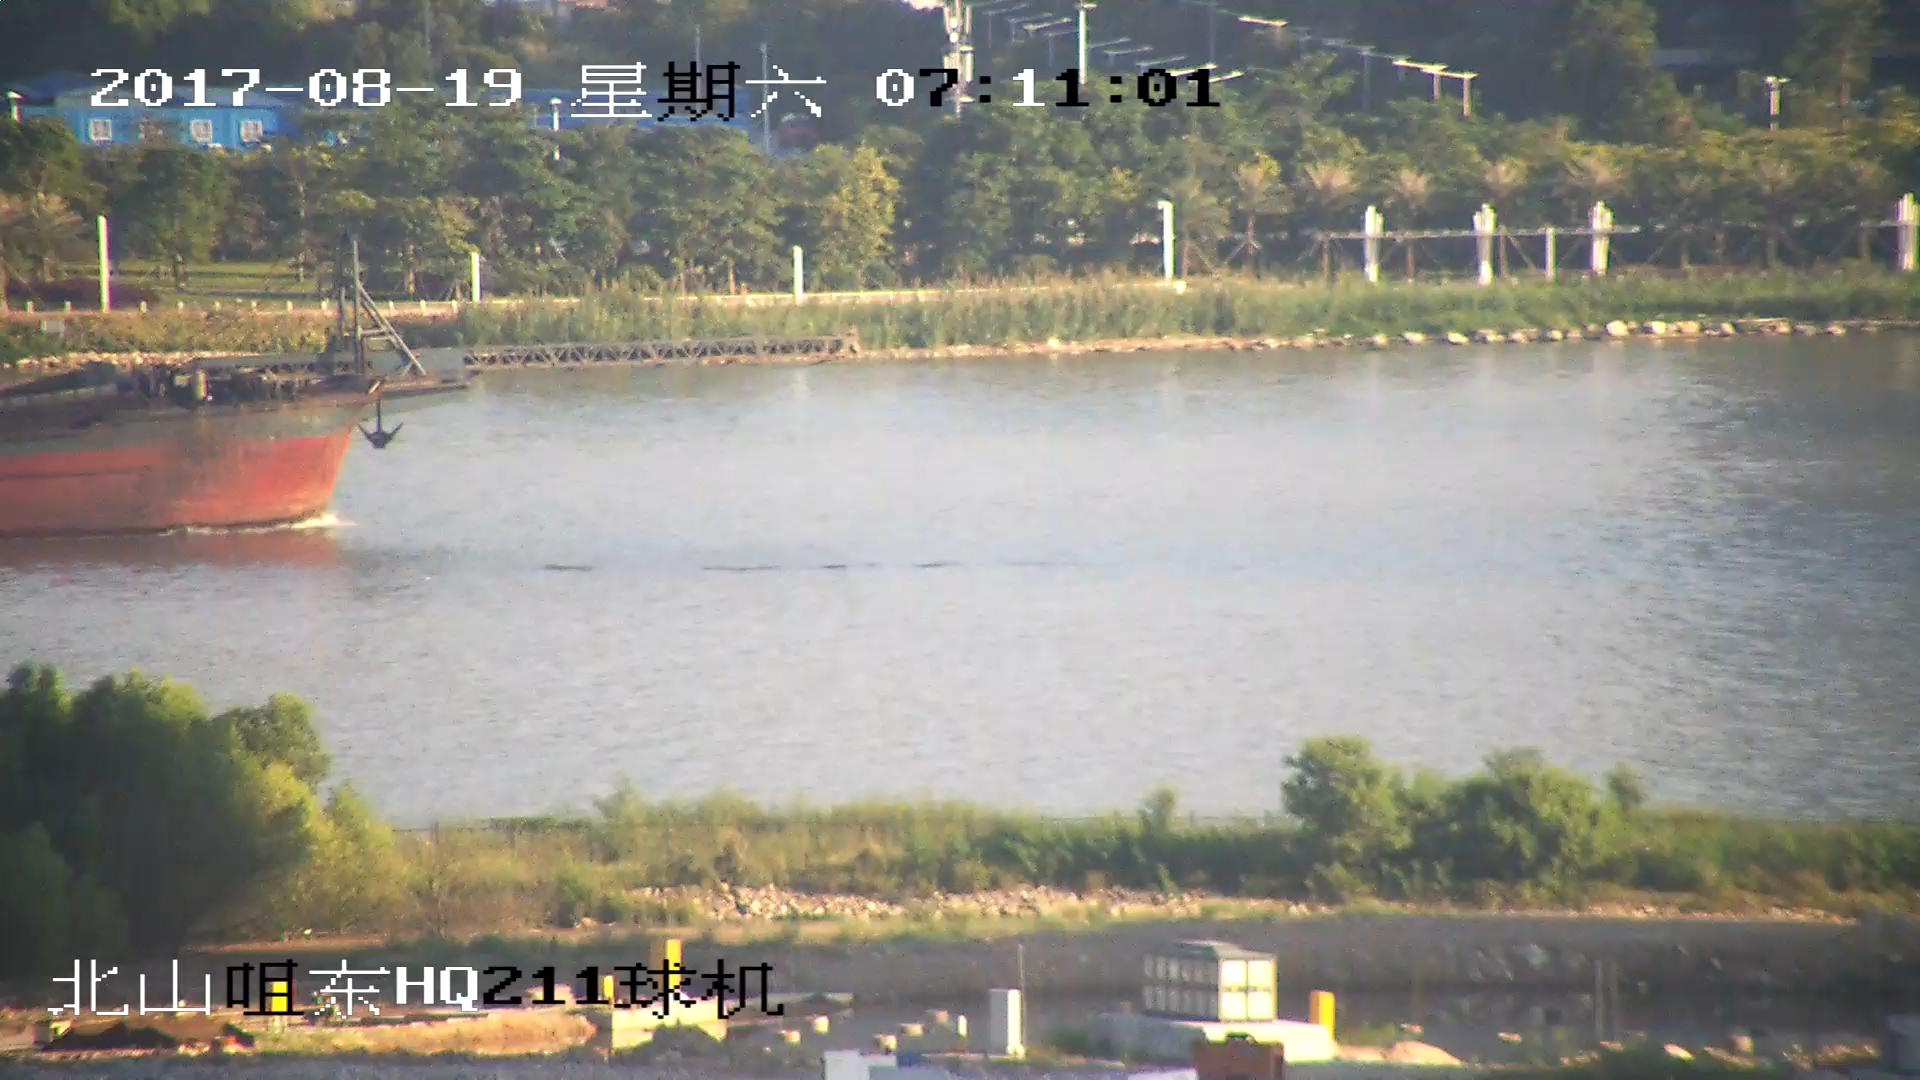bulk cargo carrier: (1, 243, 844, 539)
